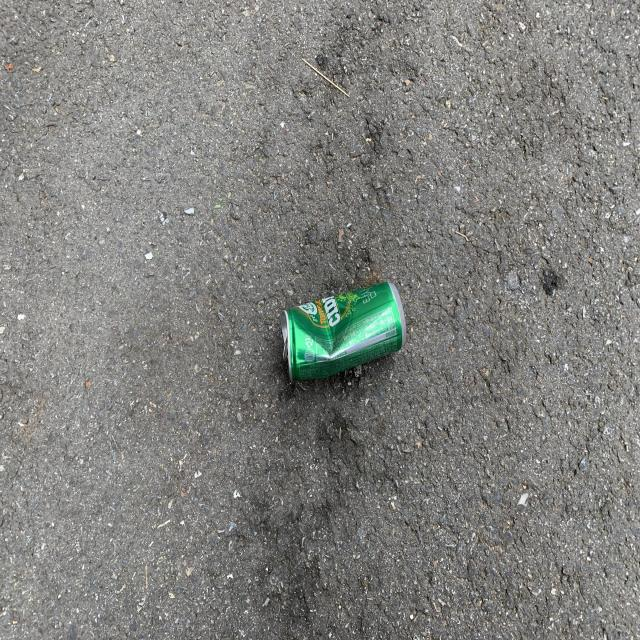can: (280, 282, 407, 380)
